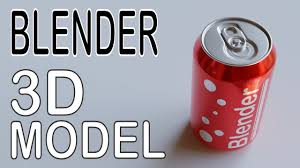can: (190, 15, 277, 154)
